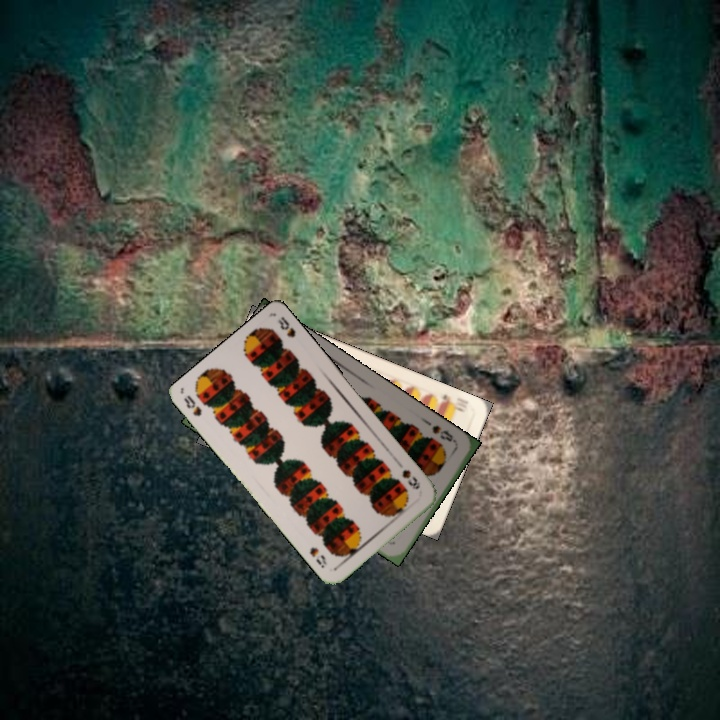E10: (436, 390, 471, 415)
S8: (428, 421, 460, 452), (398, 465, 423, 492), (180, 391, 204, 419)
